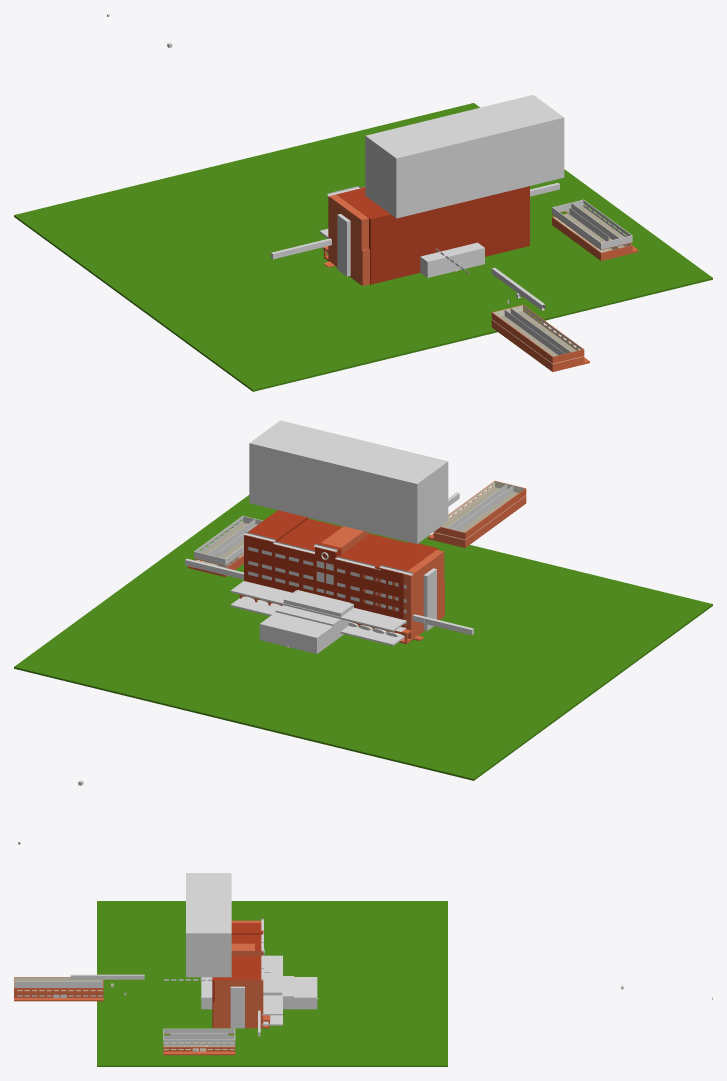
Rendered from Building_Updated.glb.
The picture shows the model from 3 angles, top to bottom: view 1: azimuth 30°, elevation 25°; view 2: azimuth 150°, elevation 25°; view 3: azimuth 270°, elevation 25°; orthographic projection. The views are drawn at different scales.
Parts seen in each view (by area): view 1: grass, Cube.002, Room, Room_FINAL, Interior_Walls_Guide.001, Cube, Cube.017, Cube.003, Interior_Walls_Guide.004, Ruler, Outside_Walls, Outside_Walls_CEIT; view 2: grass, Cube.002, Room, Cube, Room_FINAL, floors.002, Interior_Walls_Guide.001, windows, Ruler, Cube.017, Interior_Walls_Guide.004, Cube.003 (+1 smaller); view 3: grass, Cube.002, Cube, Room, Room_FINAL, Interior_Walls_Guide.001, floors.002, Room_FINAL.002, Cube.017, Cube.003, Interior_Walls_Guide.004, Cube.016 (+5 smaller).
Boxes of the visible parts, box(x1,y1,x2,y2) form: grass: box(14, 103, 712, 391); Cube.002: box(365, 95, 564, 218); Room: box(336, 186, 529, 284); Room_FINAL: box(328, 194, 368, 284); Interior_Walls_Guide.001: box(491, 305, 584, 363); Cube: box(420, 242, 484, 277); Cube.017: box(552, 199, 632, 249); Cube.003: box(337, 214, 350, 276); Interior_Walls_Guide.004: box(504, 308, 570, 355); Ruler: box(271, 183, 559, 259); Outside_Walls: box(552, 213, 632, 259); Outside_Walls_CEIT: box(491, 319, 584, 370); grass: box(14, 495, 712, 780); Cube.002: box(249, 420, 448, 543); Room: box(244, 510, 438, 627); Cube: box(259, 590, 353, 653); Room_FINAL: box(250, 526, 444, 640); floors.002: box(230, 581, 406, 645); Interior_Walls_Guide.001: box(434, 481, 526, 539); windows: box(248, 546, 406, 623); Ruler: box(185, 558, 473, 635); Cube.017: box(194, 515, 262, 565); Interior_Walls_Guide.004: box(447, 484, 513, 531); Cube.003: box(423, 568, 436, 630); grass: box(97, 901, 447, 1066); Cube.002: box(186, 873, 231, 977); Cube: box(201, 972, 317, 1009); Room: box(212, 923, 263, 1028); Room_FINAL: box(214, 920, 263, 1028); Interior_Walls_Guide.001: box(14, 977, 103, 993); floors.002: box(262, 955, 282, 1025); Room_FINAL.002: box(213, 1002, 261, 1028); Cube.017: box(163, 1028, 235, 1044); Cube.003: box(230, 986, 244, 1028); Interior_Walls_Guide.004: box(14, 981, 102, 987); Cube.016: box(163, 1045, 235, 1055).
Size of the model in its own units: 272 by 108 by 488.
